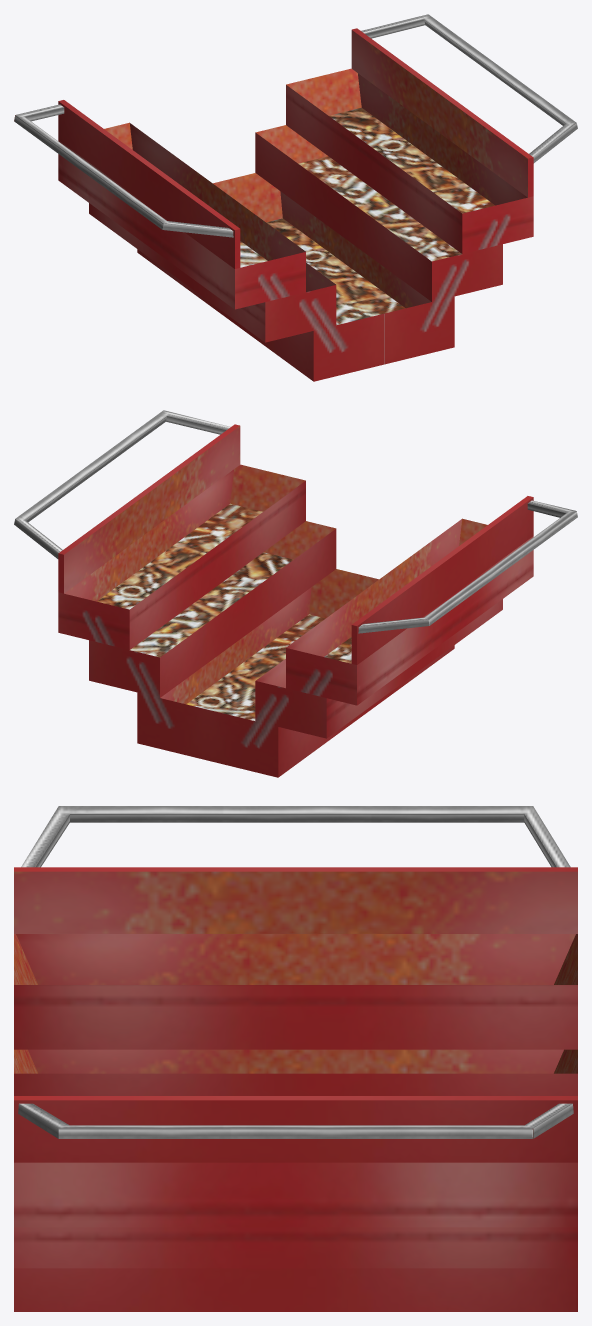
The model's file is ToolBox1_2.fbx.
3 renders of one model, top to bottom at view 1: azimuth 30°, elevation 25°; view 2: azimuth 150°, elevation 25°; view 3: azimuth 270°, elevation 25°, orthographic. The views are drawn at different scales.
Visible parts, largest first — view 1: ToolBox2; view 2: ToolBox2; view 3: ToolBox2.
Part boxes in pixels (x1,y1,x2,y2): ToolBox2: [14, 14, 577, 381]; ToolBox2: [14, 410, 577, 777]; ToolBox2: [14, 806, 577, 1311].
Size of the model in its own units: 105 by 43.74 by 77.22.
Materials: 1 (1 with a texture image).
